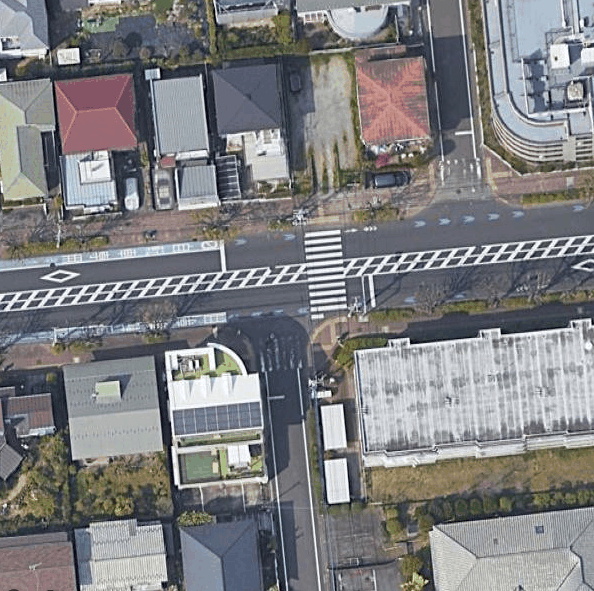facility: (500, 3, 592, 118)
flatroof: (347, 324, 593, 461)
solarpanel_slope: (163, 392, 270, 443)
